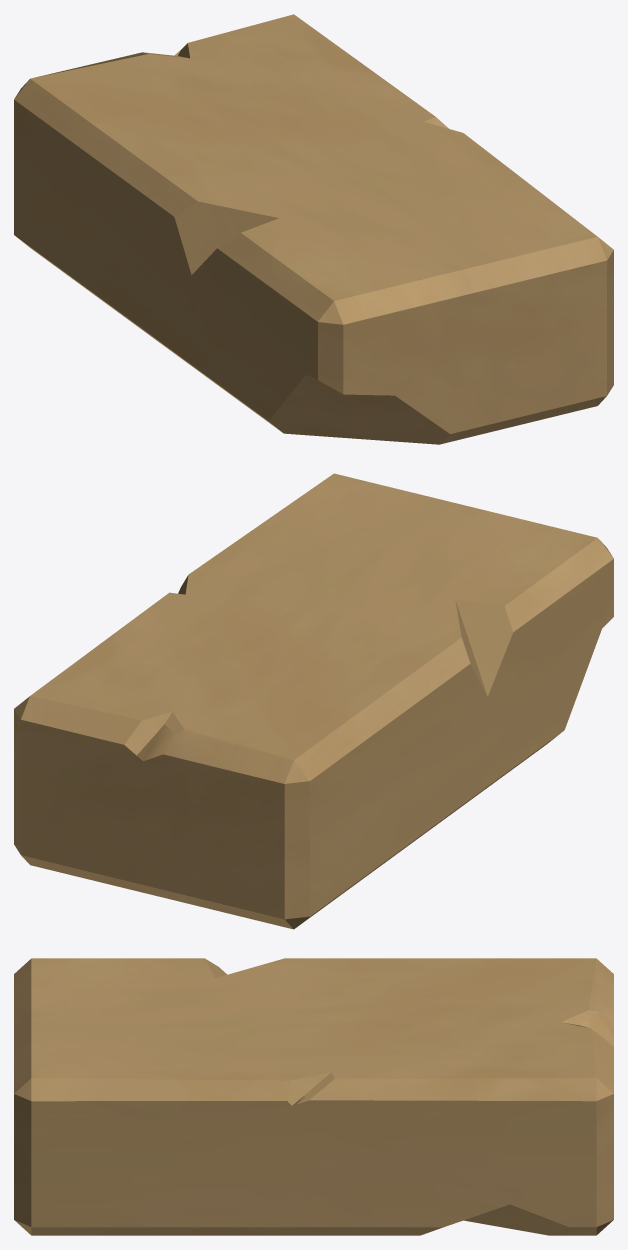
File: SandstoneBlock.fbx
3 renders of one model, top to bottom at view 1: azimuth 30°, elevation 25°; view 2: azimuth 150°, elevation 25°; view 3: azimuth 270°, elevation 25°, orthographic. The views are drawn at different scales.
Parts seen in each view (by area): view 1: SandstoneBlock; view 2: SandstoneBlock; view 3: SandstoneBlock.
Part boxes in pixels (box(x1,y1,x2,y2)): SandstoneBlock: box(14, 14, 613, 444); SandstoneBlock: box(14, 473, 613, 929); SandstoneBlock: box(14, 958, 613, 1235).
Size of the model in its own units: 1.83 by 1 by 3.45.
